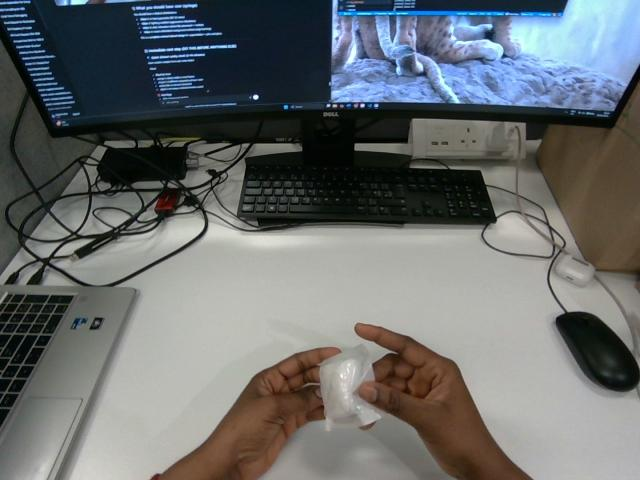gauze: (319, 345, 381, 430)
